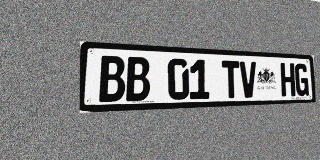0: (168, 58, 189, 100)
1: (189, 59, 209, 99)
B: (99, 55, 125, 102), (126, 57, 150, 101)
G: (295, 63, 309, 96)
H: (280, 63, 295, 97)
T: (222, 60, 240, 98)
V: (240, 61, 257, 98)
